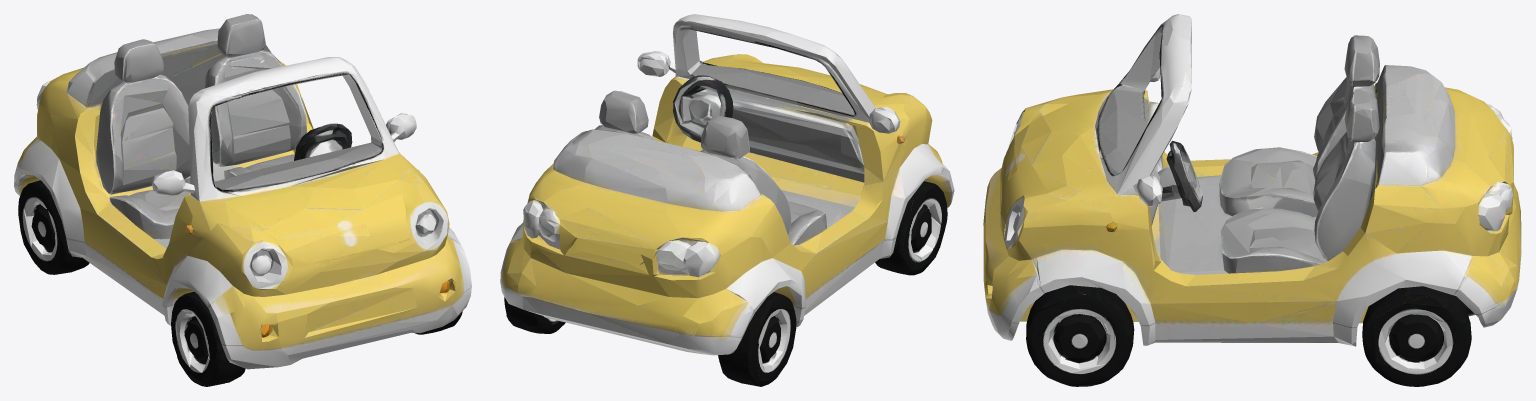
File: car_city.glb
The picture shows the model from 3 angles, left to right: view 1: azimuth 30°, elevation 25°; view 2: azimuth 150°, elevation 25°; view 3: azimuth 270°, elevation 25°; orthographic projection. The views are drawn at different scales.
Bounding box in the file's own units: 1.62 × 1.47 × 2.6.
Materials: 1 (1 with a texture image).
